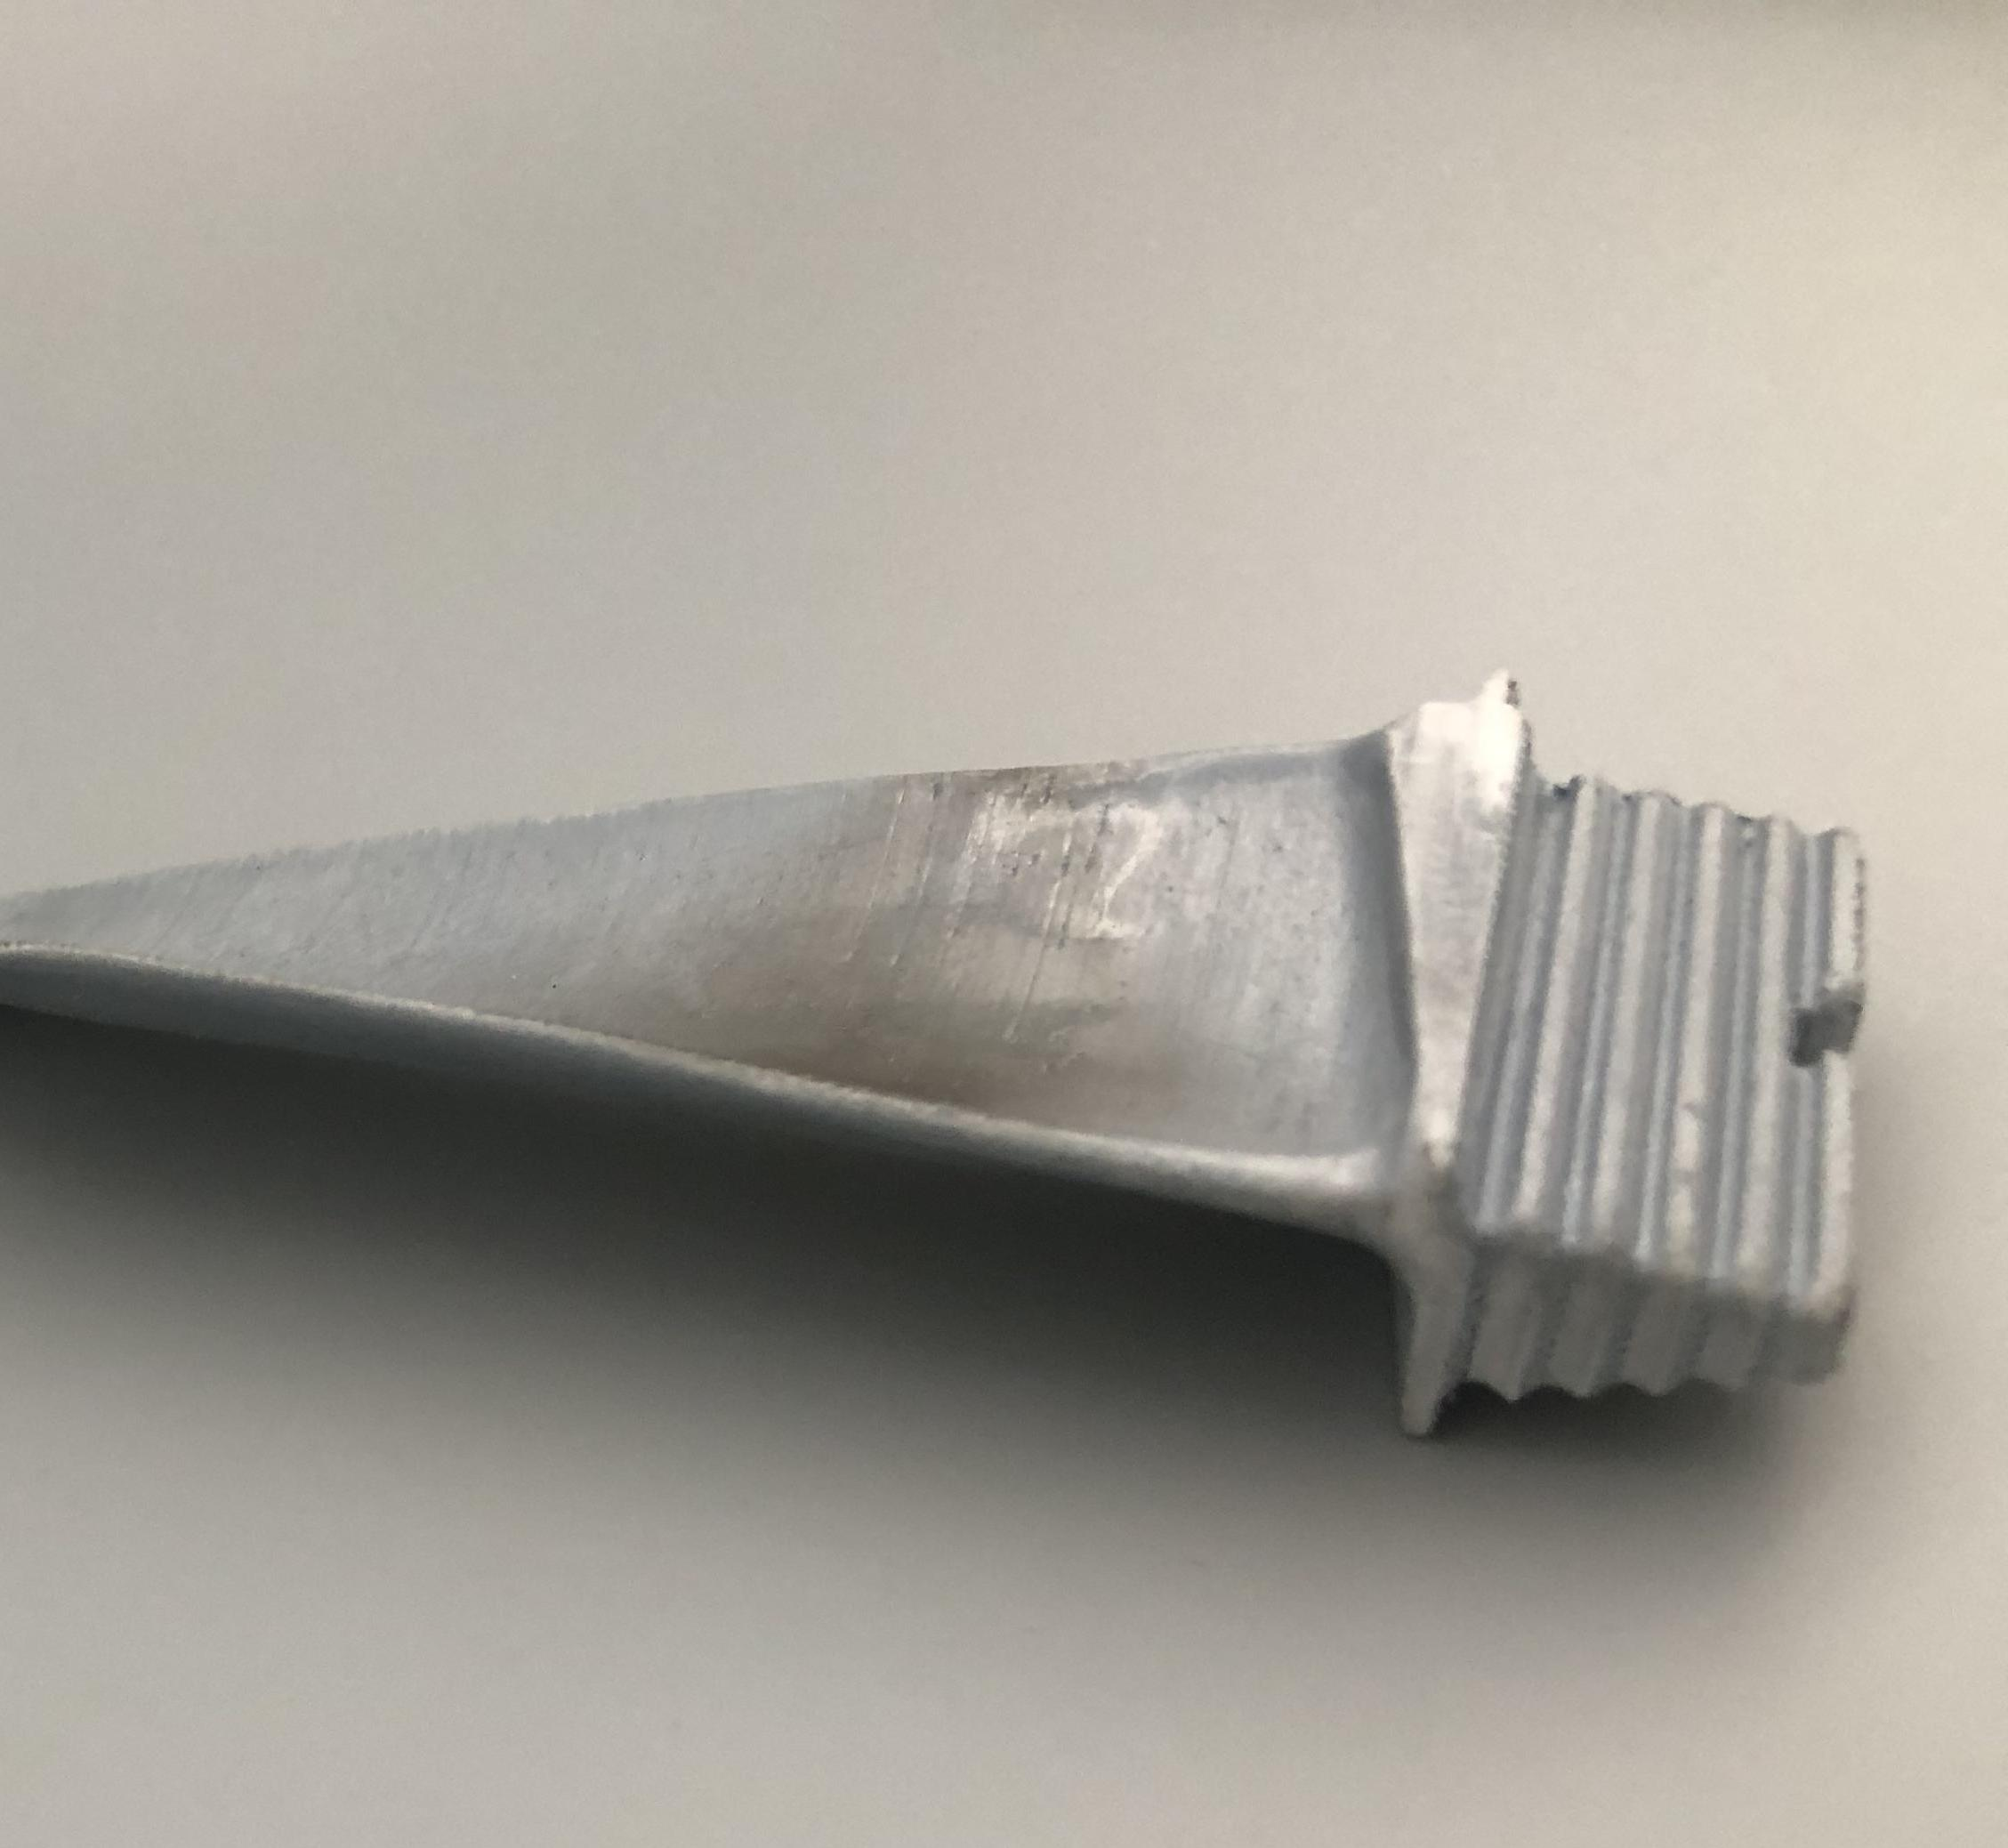ablation: (728, 948, 1118, 1132)
